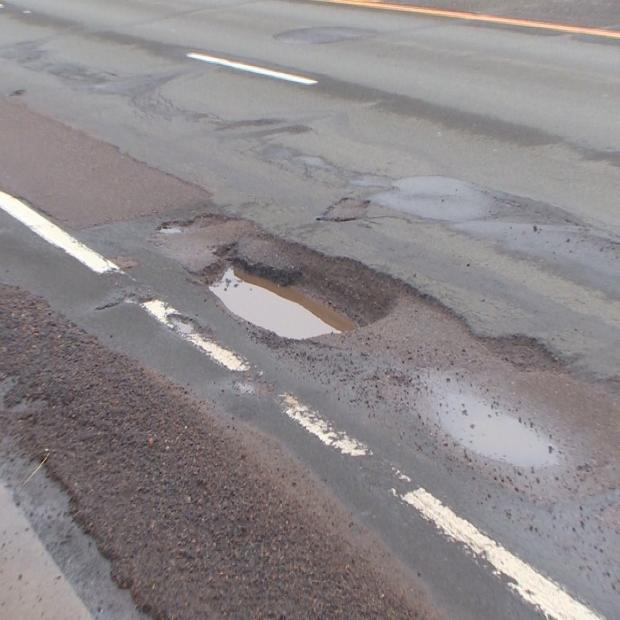lubang: (186, 229, 397, 339), (477, 333, 572, 373), (156, 212, 241, 234), (166, 311, 193, 335)
